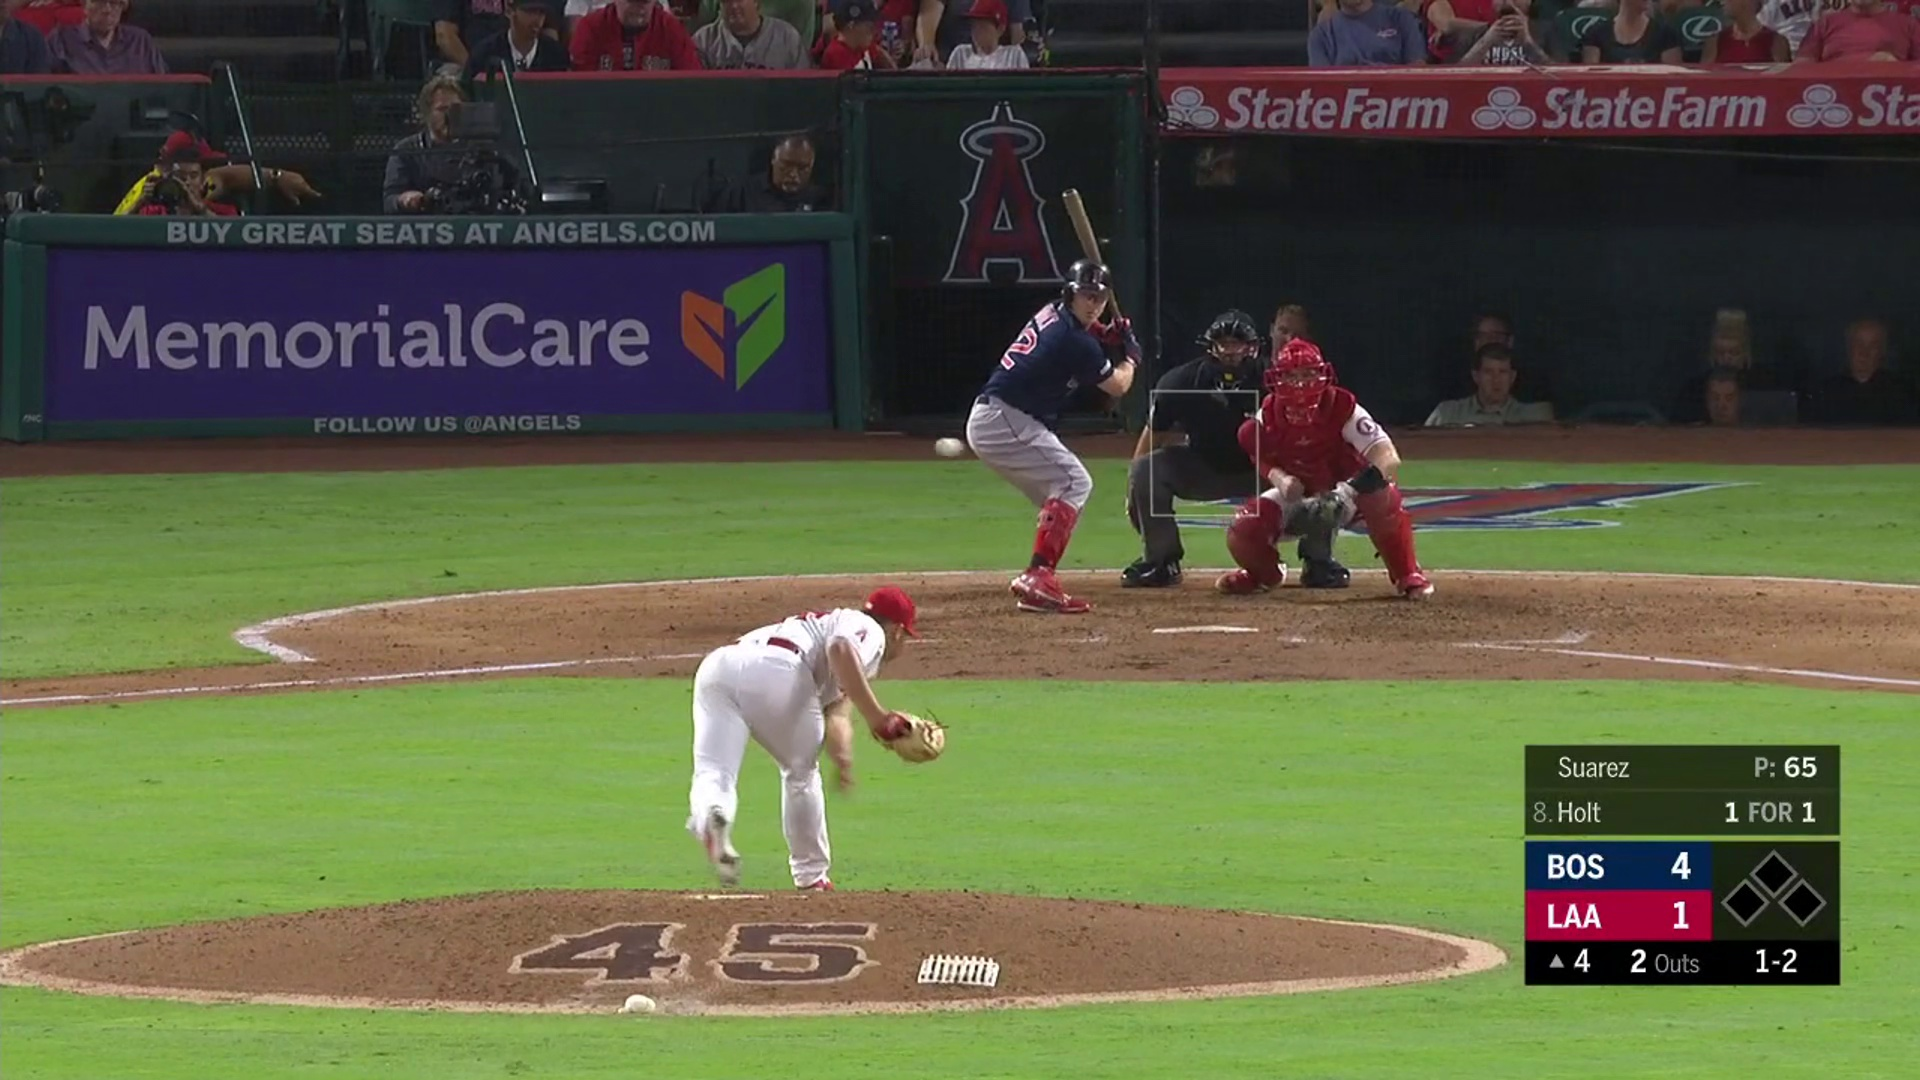baseball: (935, 436, 961, 458)
